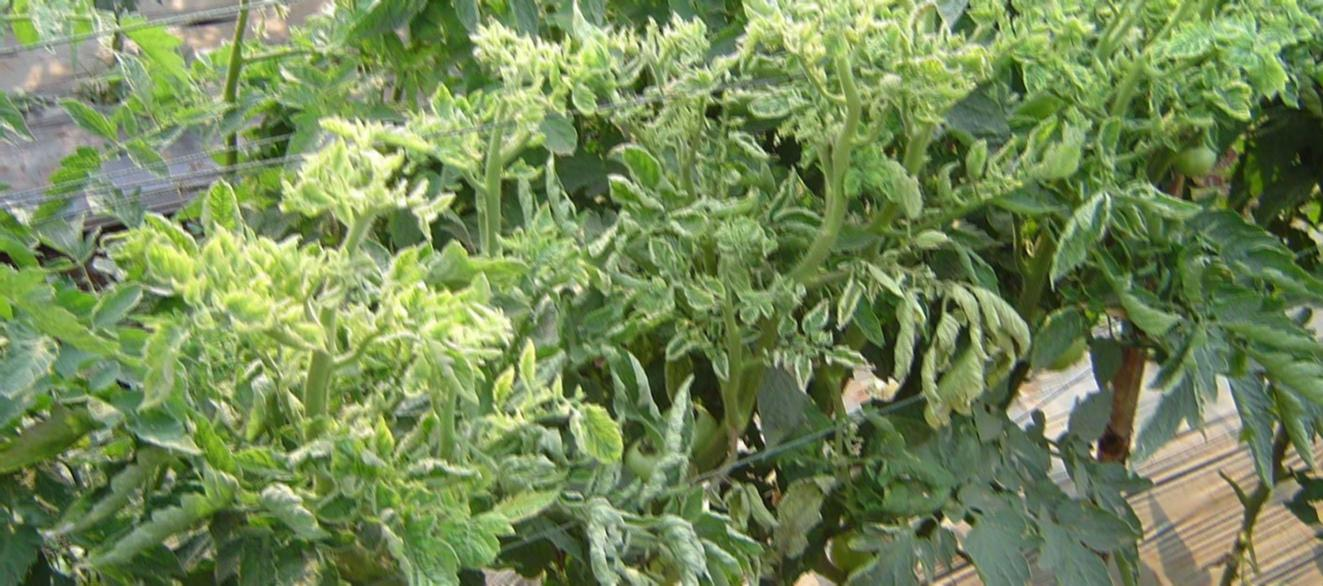Tomato leaf yellow virus: (833, 134, 930, 214), (377, 514, 470, 586), (1047, 193, 1113, 285), (571, 399, 625, 460), (433, 295, 477, 362), (615, 146, 671, 197), (153, 233, 199, 292), (1186, 85, 1262, 120), (226, 240, 259, 319), (801, 297, 841, 362), (661, 207, 719, 241), (373, 286, 408, 336), (674, 281, 719, 318), (664, 333, 698, 364), (712, 335, 727, 400), (738, 299, 760, 331), (772, 312, 791, 348), (302, 259, 324, 286)
